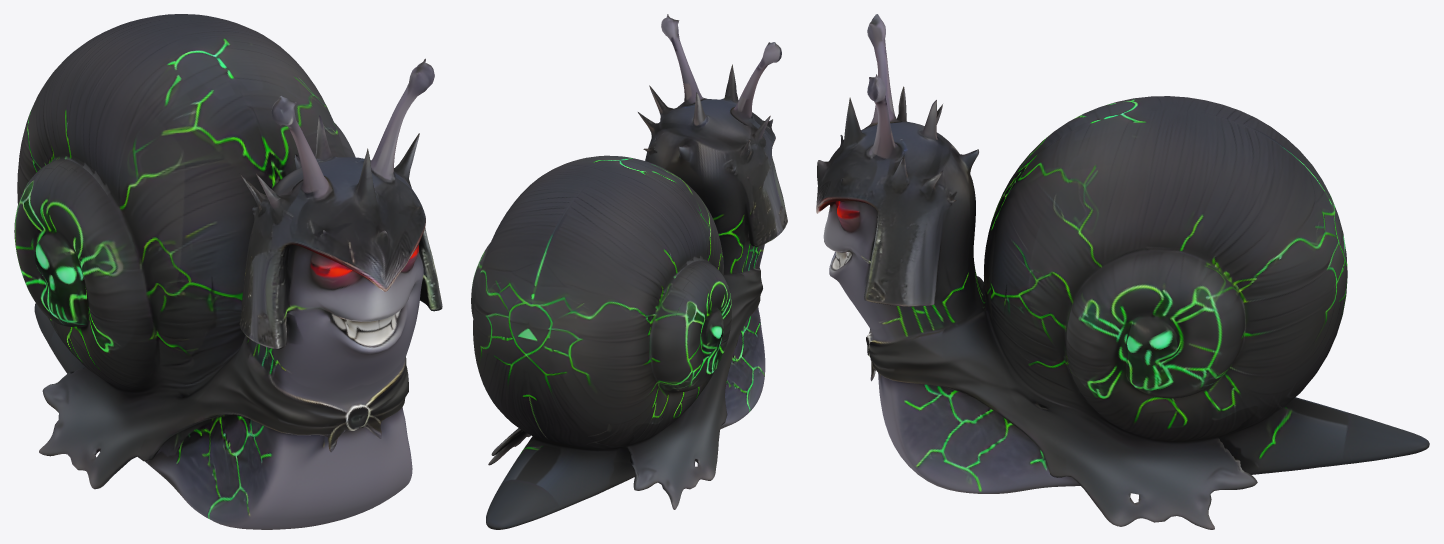
The model's file is snail_3.glb.
3 views of the same model, side by side, from view 1: azimuth 30°, elevation 25°; view 2: azimuth 150°, elevation 25°; view 3: azimuth 270°, elevation 25° (orthographic). The views are drawn at different scales.
Parts seen in each view (by area): view 1: model; view 2: model; view 3: model.
Boxes of the visible parts, x1,y1,x2,y2 form: model: (14, 14, 442, 529); model: (471, 14, 787, 529); model: (816, 14, 1429, 529).
Bounding box in the file's own units: 0.9861 × 1.48 × 1.9.
1 material, 1 textured.
